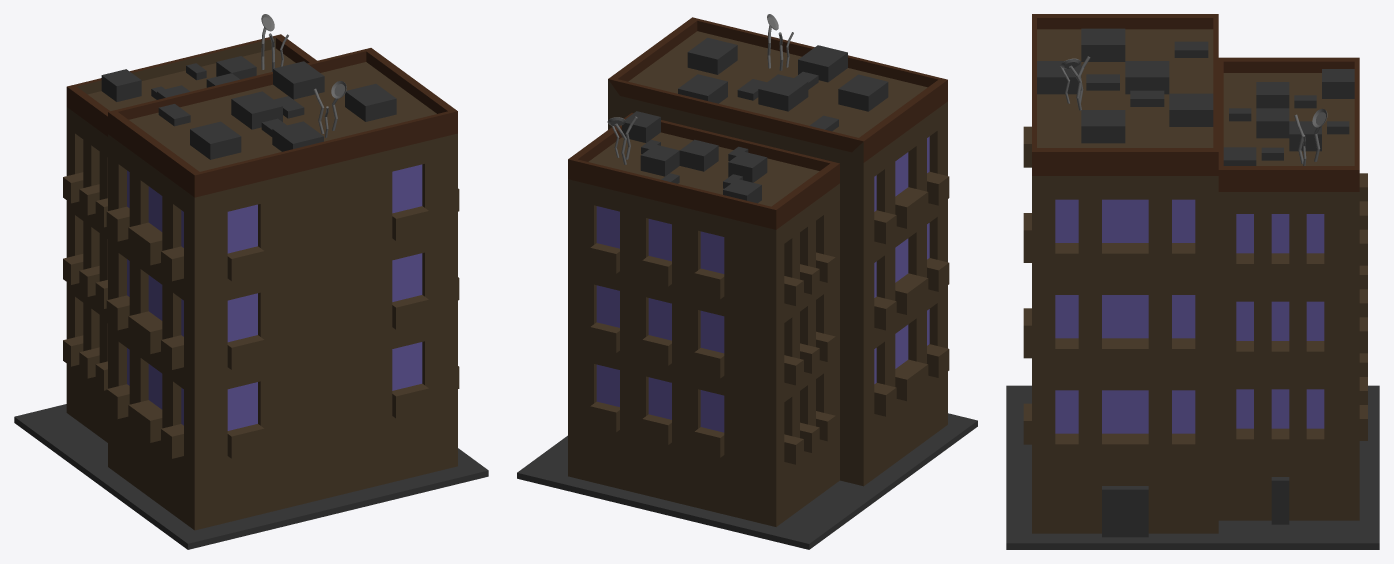
3 views of the same model, side by side, from view 1: azimuth 30°, elevation 25°; view 2: azimuth 150°, elevation 25°; view 3: azimuth 270°, elevation 25° (orthographic). The views are drawn at different scales.
Parts seen in each view (by area): view 1: Cube.010, Floor.005; view 2: Cube.010, Floor.005; view 3: Cube.010, Floor.005.
Boxes of the visible parts, left/top/right/bottom form: Cube.010: left=63, top=34, right=459, bottom=530; Floor.005: left=14, top=404, right=488, bottom=549; Cube.010: left=568, top=17, right=949, bottom=526; Floor.005: left=517, top=413, right=977, bottom=549; Cube.010: left=1023, top=14, right=1367, bottom=537; Floor.005: left=1006, top=385, right=1379, bottom=549.
Size of the model in its own units: 800 by 1019 by 800.
